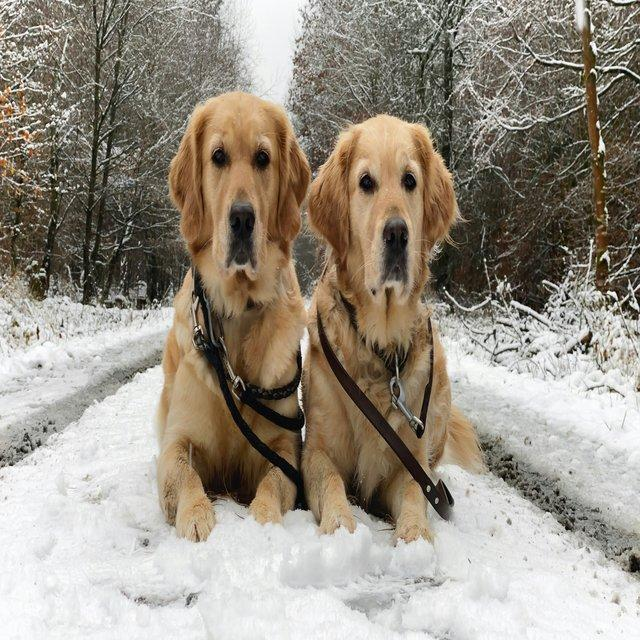retriever: (300, 112, 488, 547), (153, 89, 311, 542)
